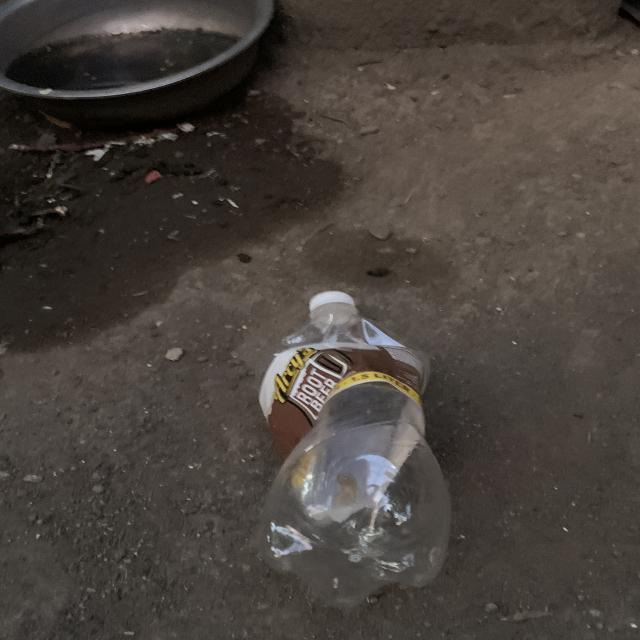Bottle: (259, 291, 451, 606)
